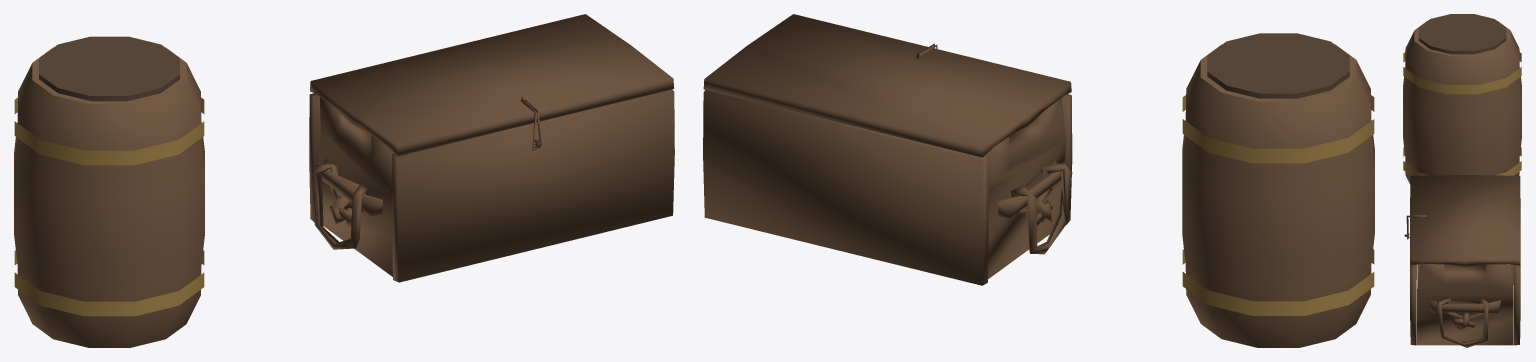
File: kit_cc0.glb
3 views of the same model, side by side, from view 1: azimuth 30°, elevation 25°; view 2: azimuth 150°, elevation 25°; view 3: azimuth 270°, elevation 25° (orthographic). The views are drawn at different scales.
Parts seen in each view (by area): view 1: plank_box, cask; view 2: plank_box, cask; view 3: plank_box, cask.
Part boxes in pixels (bbox=[...]): plank_box: bbox=[309, 14, 674, 282]; cask: bbox=[14, 36, 204, 347]; plank_box: bbox=[703, 14, 1072, 285]; cask: bbox=[1182, 33, 1374, 347]; plank_box: bbox=[1404, 175, 1520, 347]; cask: bbox=[1403, 14, 1521, 184].
Bounding box in the file's own units: 2.7 × 1.02 × 0.709.
